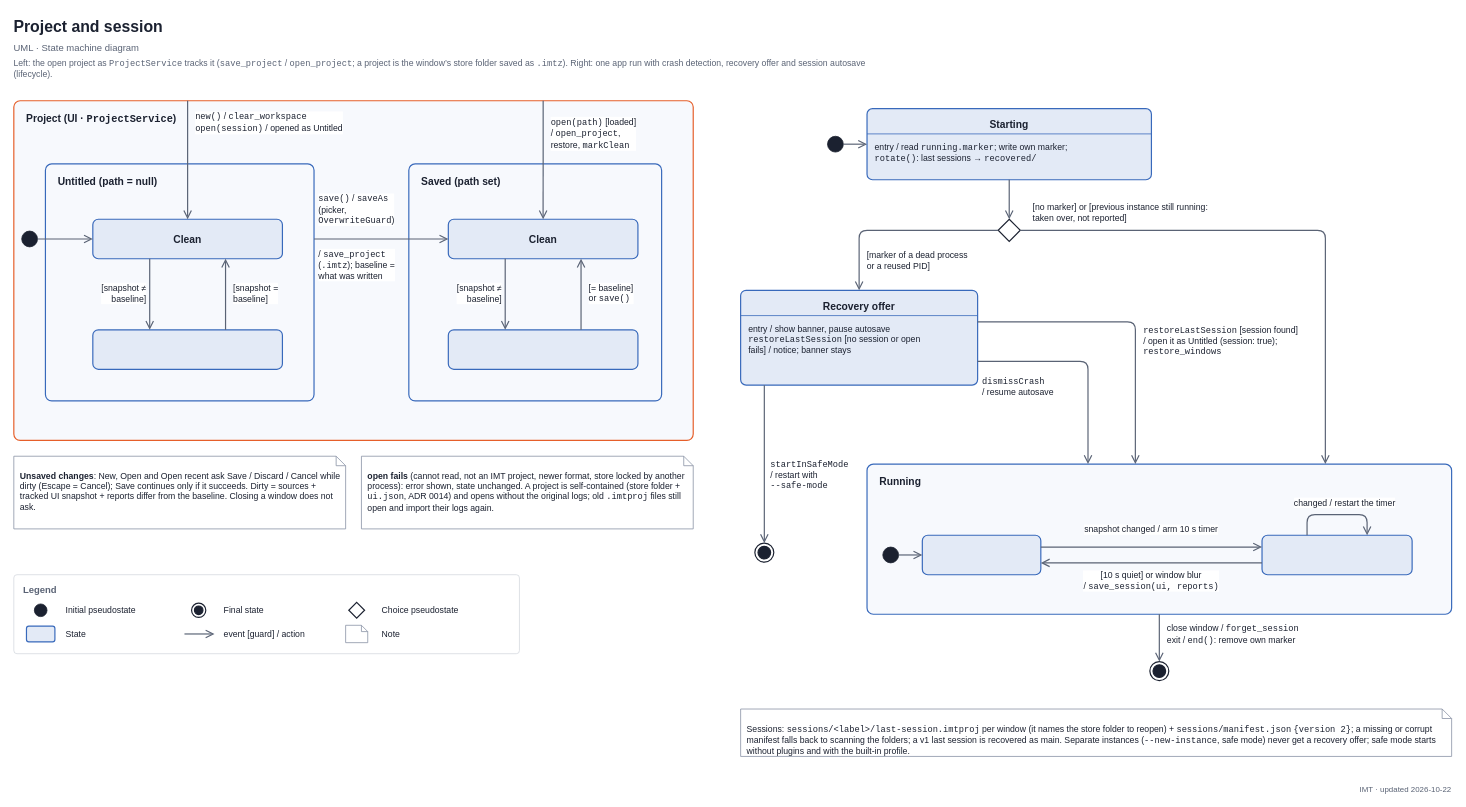
The diagram is 1466 pixels wide and 807 high, and some of its shapes have lost their labels. Here are the shapes that lost their labels. From the top down, the centre of each, then its label:
At pixel 187 349: "Dirty".
At pixel 542 349: "Modified".
At pixel 981 554: "Idle".
At pixel 1336 554: "Save pending".
